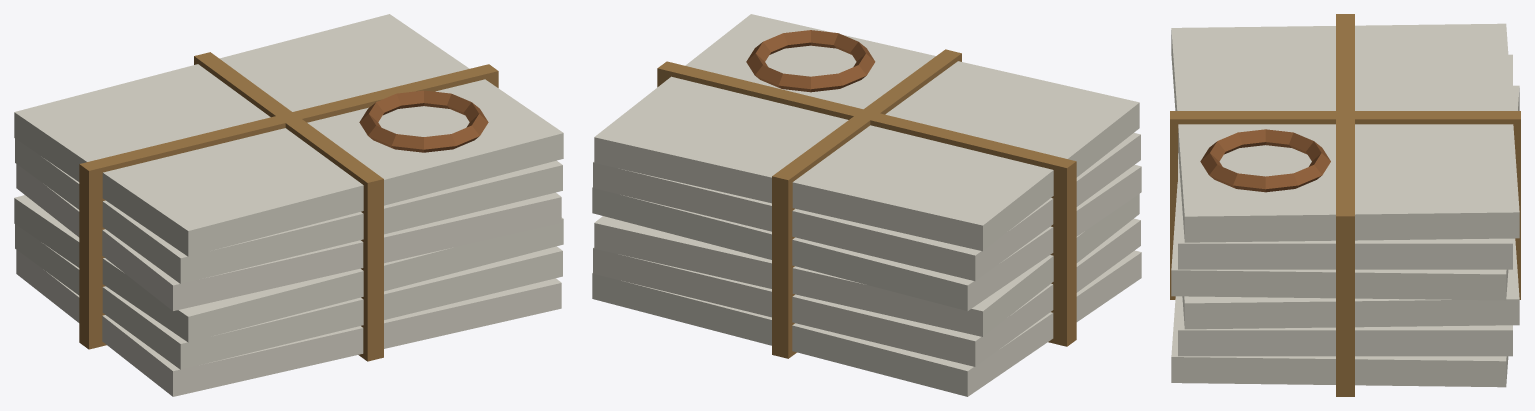
File: manuscript.glb
3 views of the same model, side by side, from view 1: azimuth 30°, elevation 25°; view 2: azimuth 150°, elevation 25°; view 3: azimuth 270°, elevation 25° (orthographic).
Parts seen in each view (by area): view 1: pages_manuscript_paper, string_manuscript_string, coffee_manuscript_coffee; view 2: pages_manuscript_paper, string_manuscript_string, coffee_manuscript_coffee; view 3: pages_manuscript_paper, string_manuscript_string, coffee_manuscript_coffee.
Part boxes in pixels (x1,y1,x2,y2): pages_manuscript_paper: (14,14,563,396); string_manuscript_string: (79,52,498,361); coffee_manuscript_coffee: (359,90,488,152); pages_manuscript_paper: (592,14,1141,396); string_manuscript_string: (657,49,1076,358); coffee_manuscript_coffee: (746,30,875,92); pages_manuscript_paper: (1171,23,1519,387); string_manuscript_string: (1170,14,1520,396); coffee_manuscript_coffee: (1200,129,1330,192).
Bounding box in the file's own units: 0.3 × 0.1315 × 0.22.
